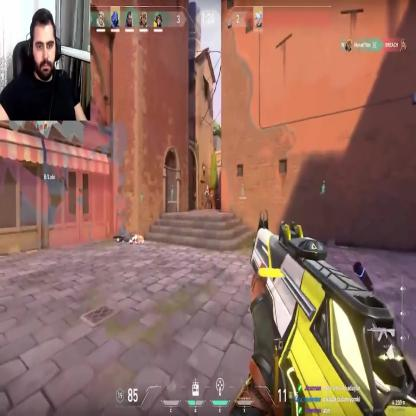enemy: (205, 183, 210, 209)
enemy_head: (206, 184, 209, 190)
